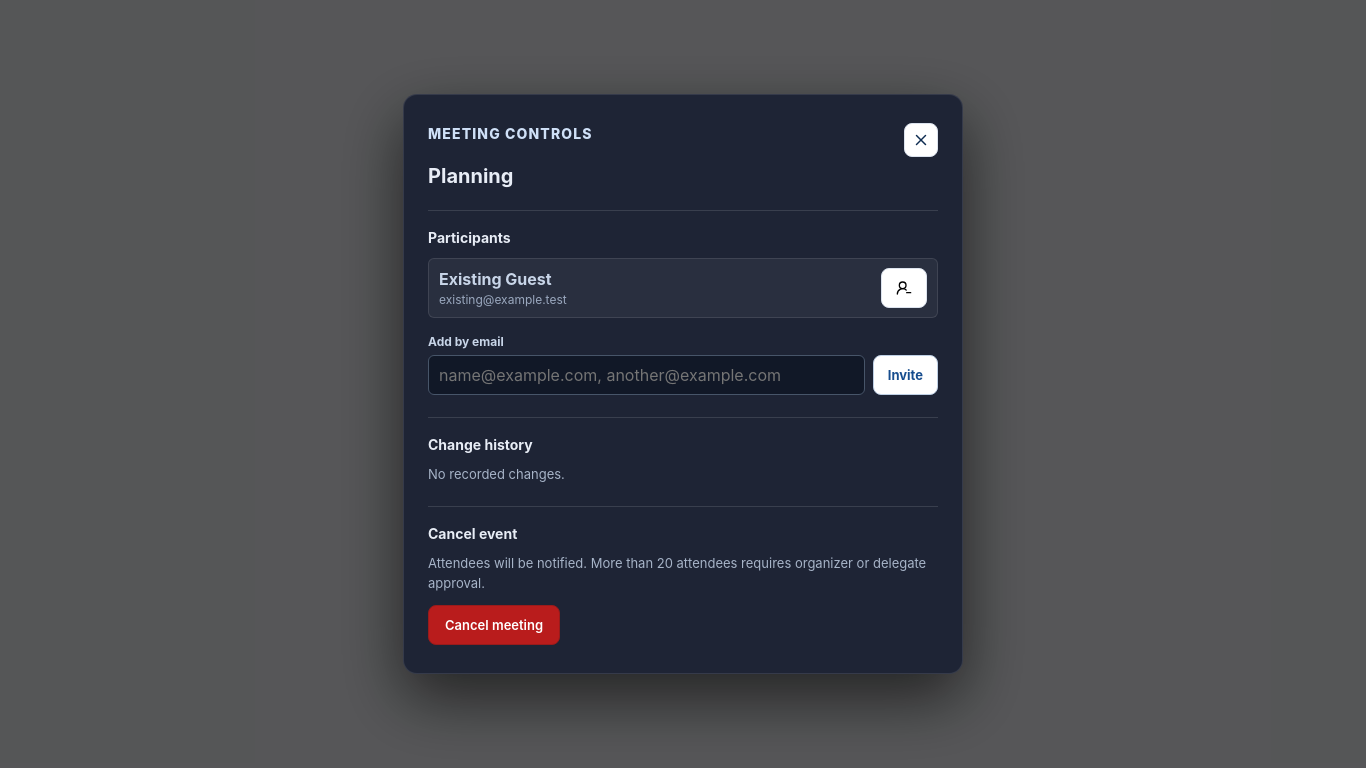
Test: MeetingManageDialog audit history › normalizes bulk addresses, skips invalid and duplicate addresses, and reports partial failures
Expected: the text "Existing Guest" is shown, [439,269,552,289]
Type " FIRST@example.test , invalid-address, first@example.test, existing@example.test, Second@example.test " into the field labelled "Add by email". click: (646, 375)
box: [428,355,865,395]
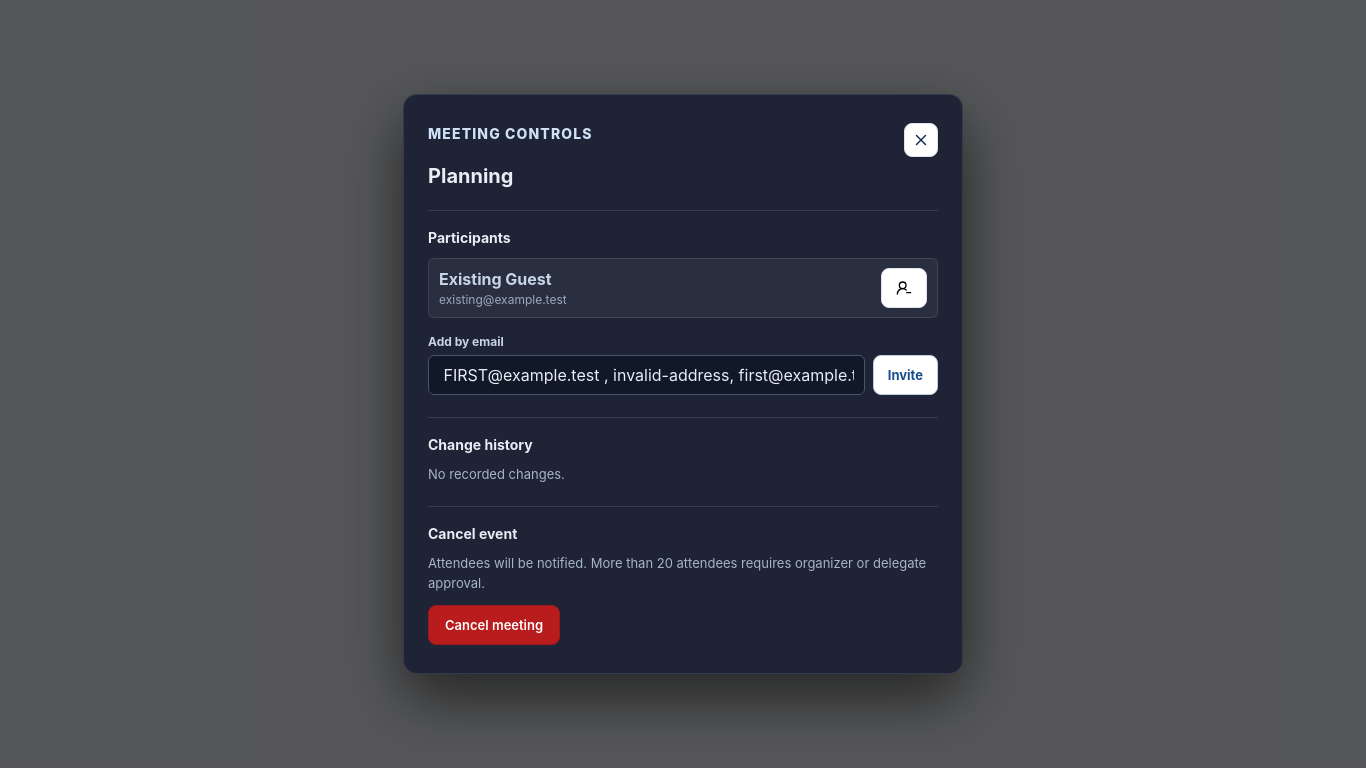
Click the button "Invite". click: (905, 375)
box: [873,355,938,395]
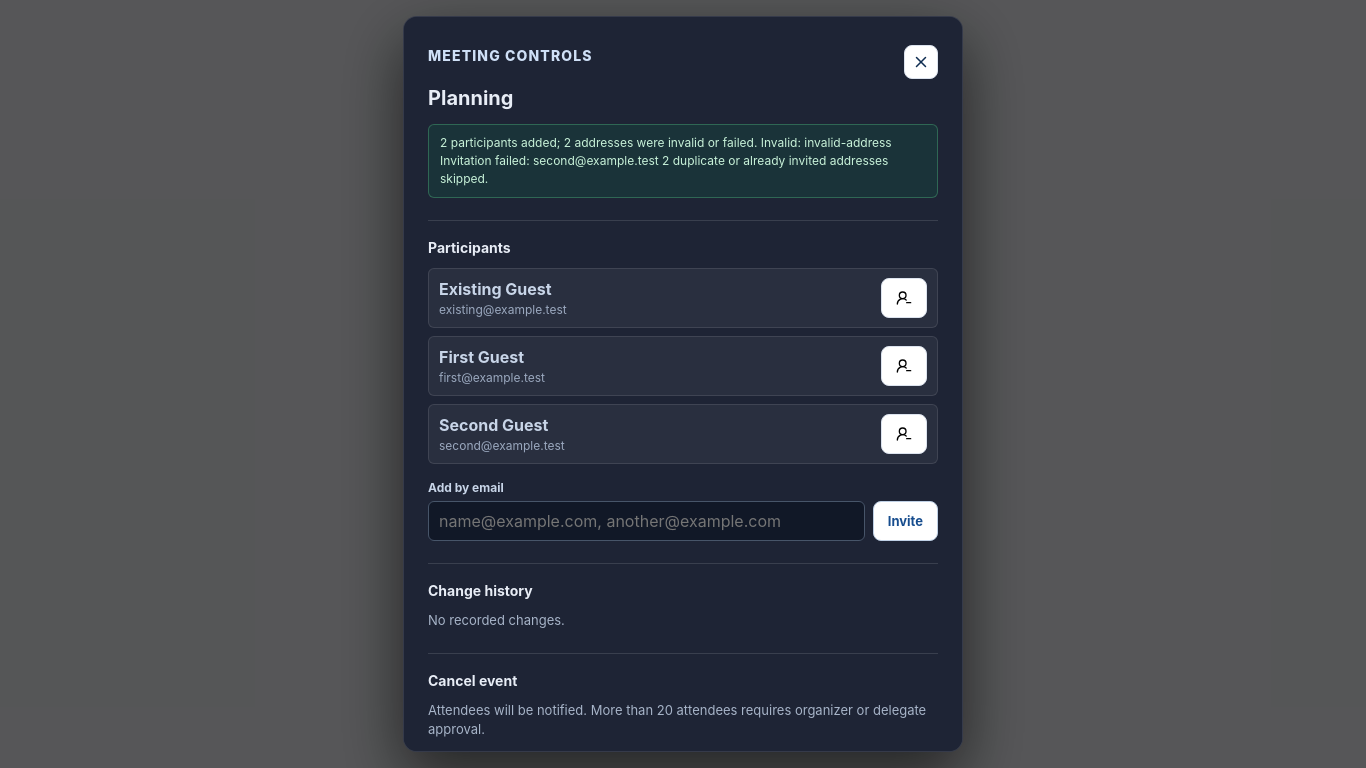
Result: the text "Second Guest" is shown at [439,415,548,435]
Result: the message shows "2 participants added; 2 addresses were invalid or failed." at [440,135,892,186]
Result: the message shows "Invitation failed: second@example.test" at [440,135,892,186]
